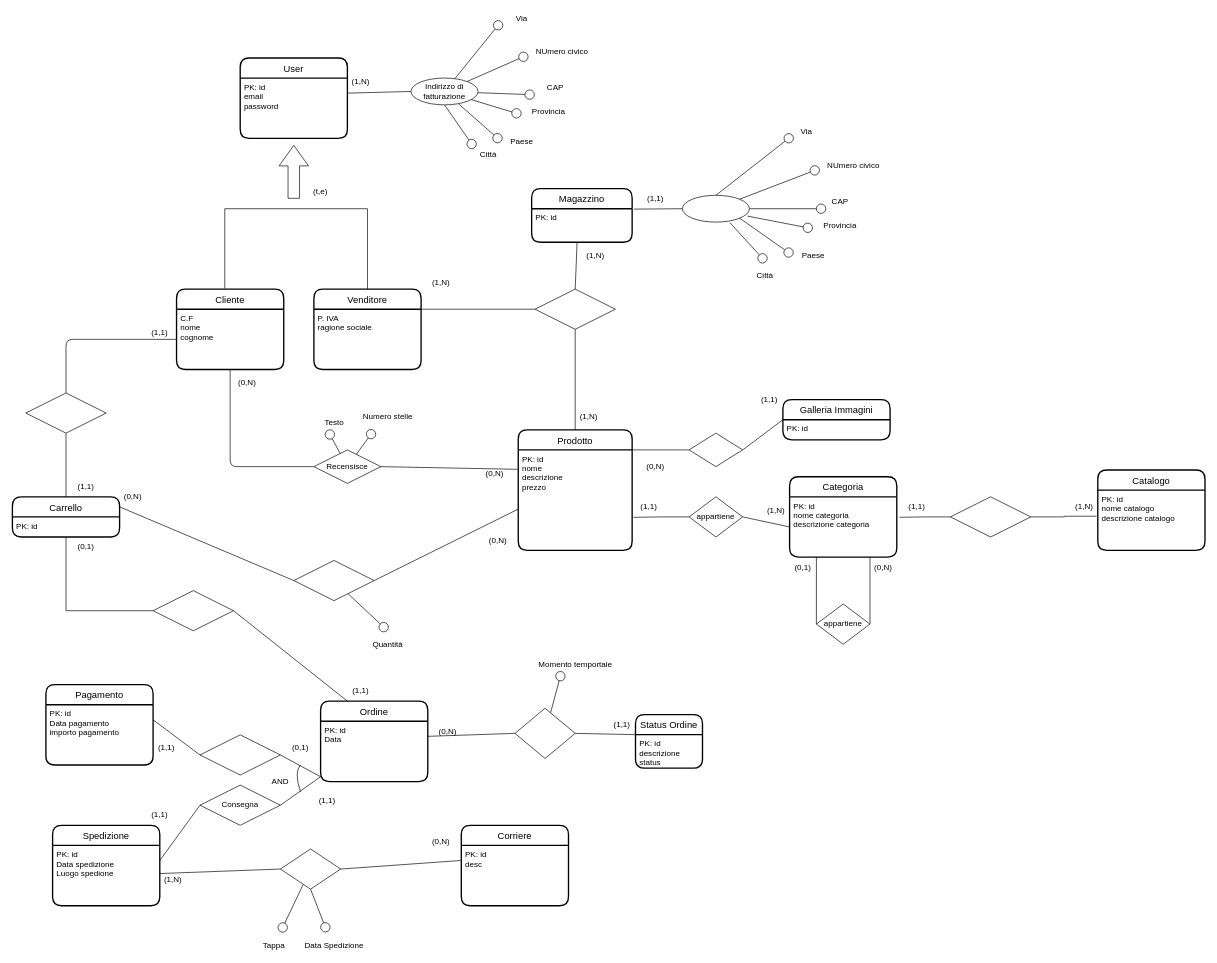
Some shapes in this 1217 by 963 pixel diagram are drawn without their labels. Each missing label, with the centre of its shape:
"Avanzamento" belongs at (x=544, y=733).
"composto" belongs at (x=990, y=516).
"Contiene" belongs at (x=333, y=580).
"Effettua" belongs at (x=192, y=610).
"Fatturazione" belongs at (x=239, y=754).
"Gode" belongs at (x=65, y=412).
"ha" belongs at (x=715, y=449).
"Mostra" belongs at (x=574, y=308).
"riferisce" belongs at (x=310, y=868).
"Sede" belongs at (x=715, y=208).
